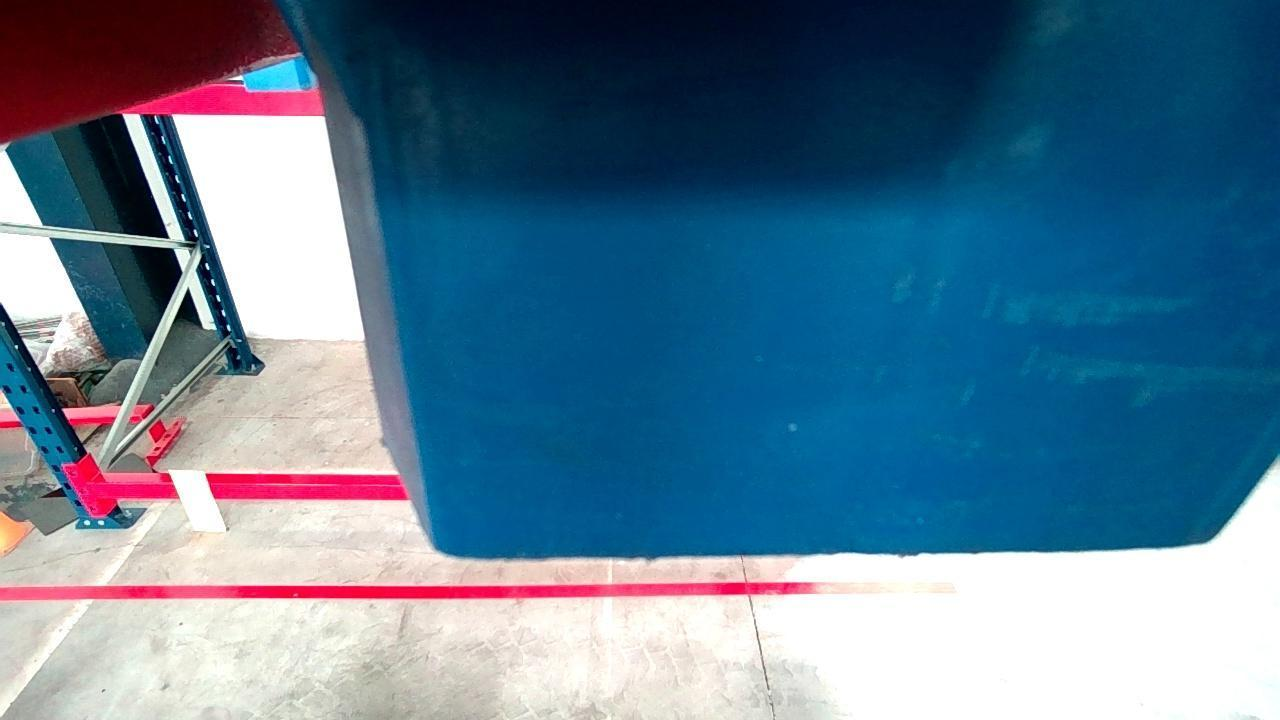h_rack: (120, 82, 328, 117), (83, 482, 408, 498)
orange_strip: (170, 466, 225, 529)
red_line: (1, 581, 951, 598)
